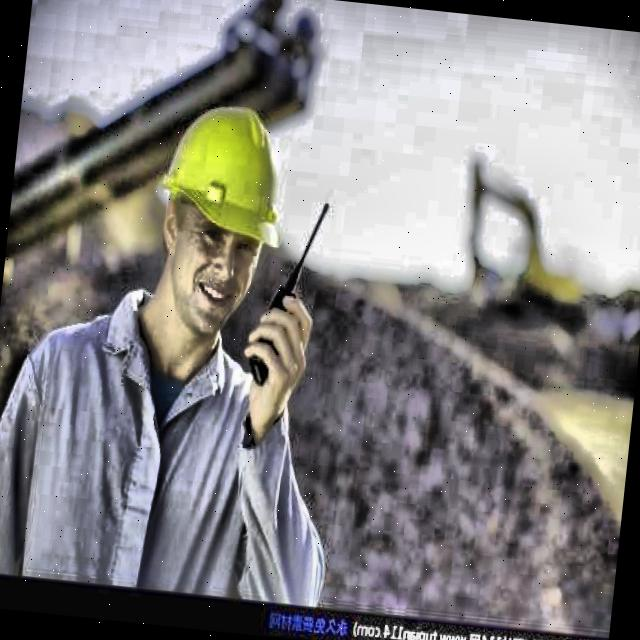helmet: (131, 61, 311, 372)
